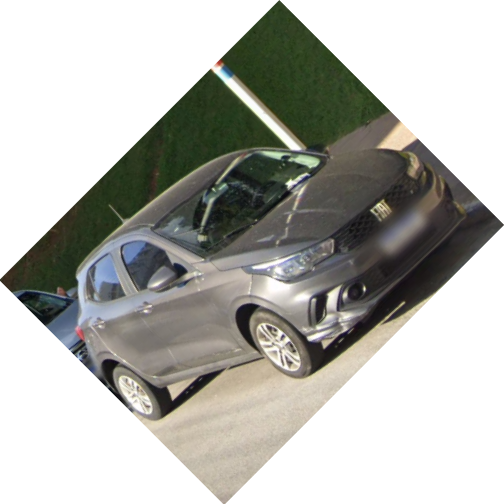car: (76, 146, 466, 424)
